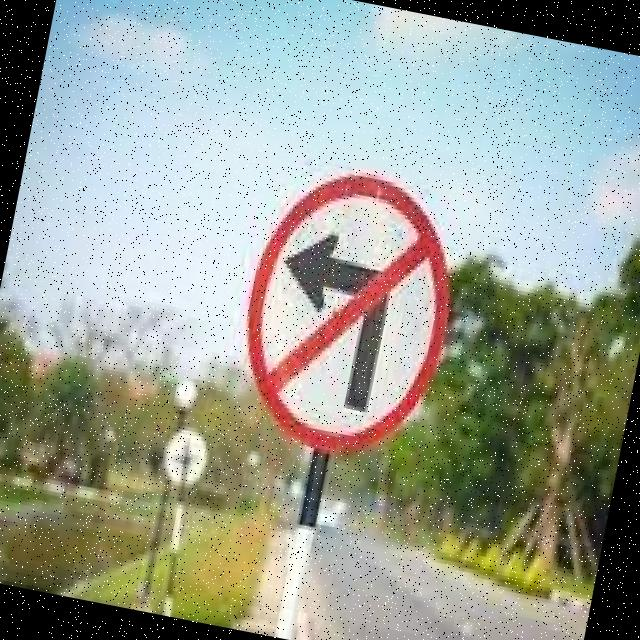do_not_turn_right: (219, 146, 482, 471)
